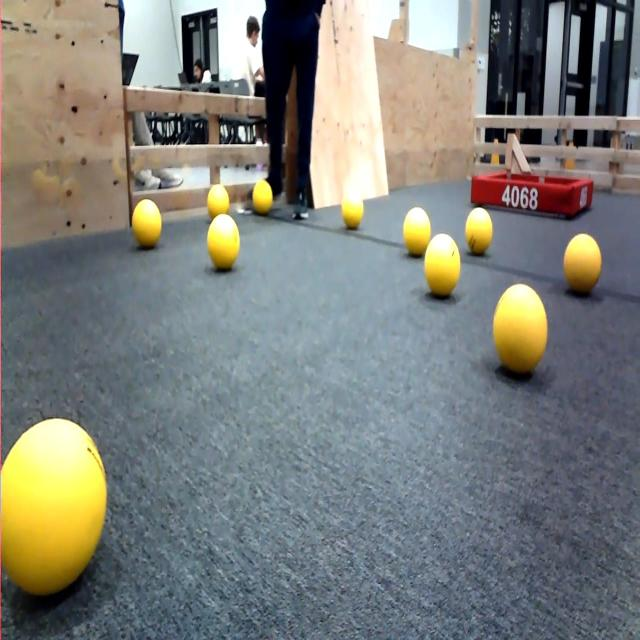Bumper: (463, 156, 598, 220)
fuel: (0, 424, 112, 602), (487, 271, 554, 391), (556, 230, 606, 307), (425, 228, 460, 304), (129, 189, 165, 253), (207, 210, 241, 268), (462, 207, 498, 256), (400, 207, 431, 263), (339, 178, 364, 244), (204, 182, 236, 223), (253, 180, 271, 213)
